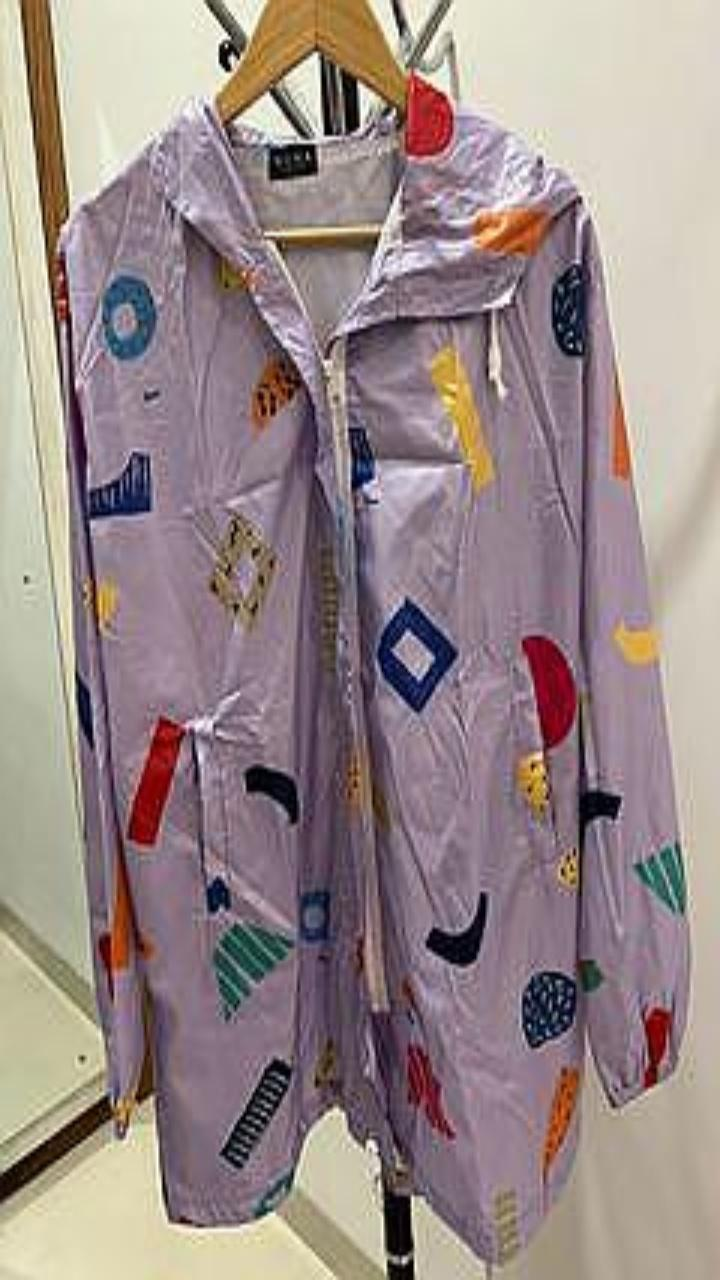Coat: (56, 76, 689, 1262)
